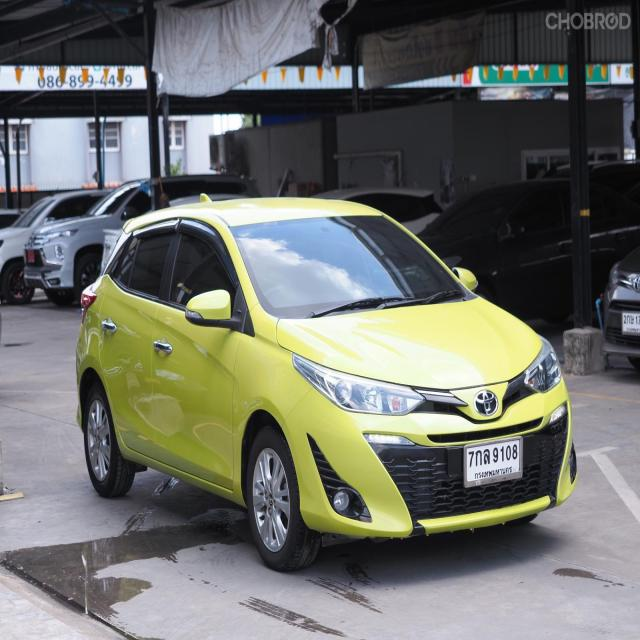license_plate: (460, 431, 527, 492)
